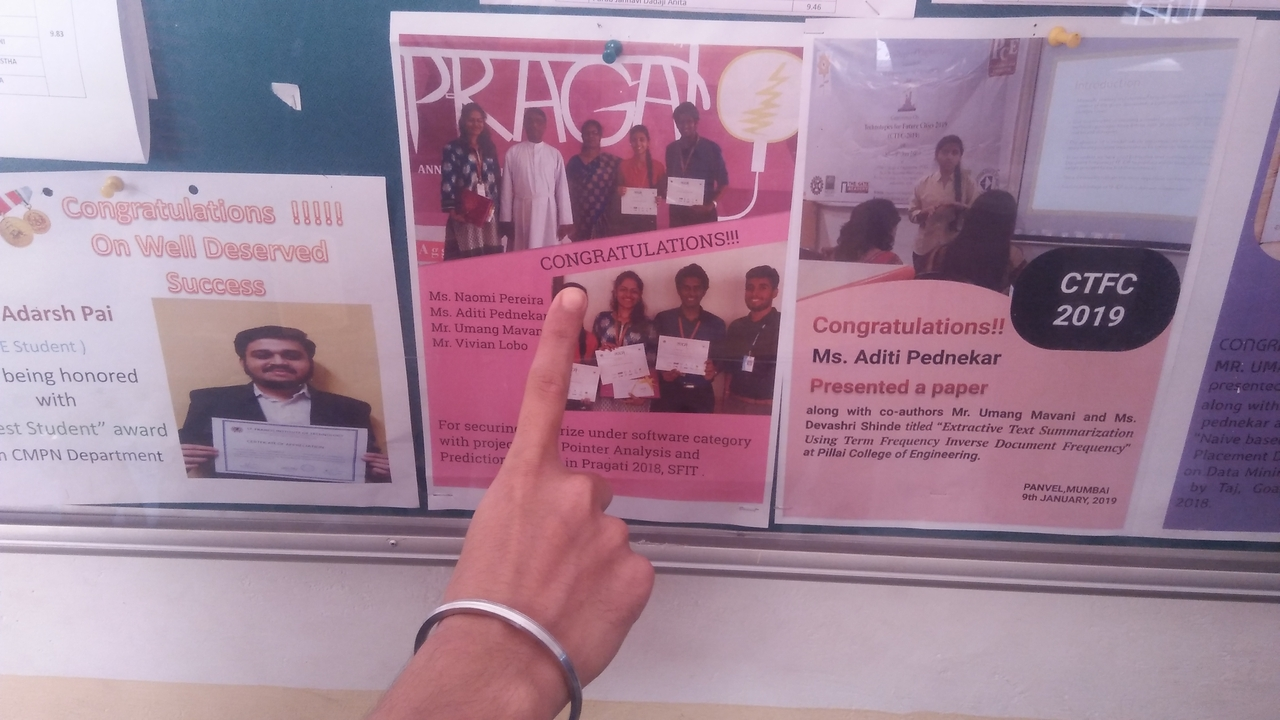fingertip: (542, 276, 596, 326)
